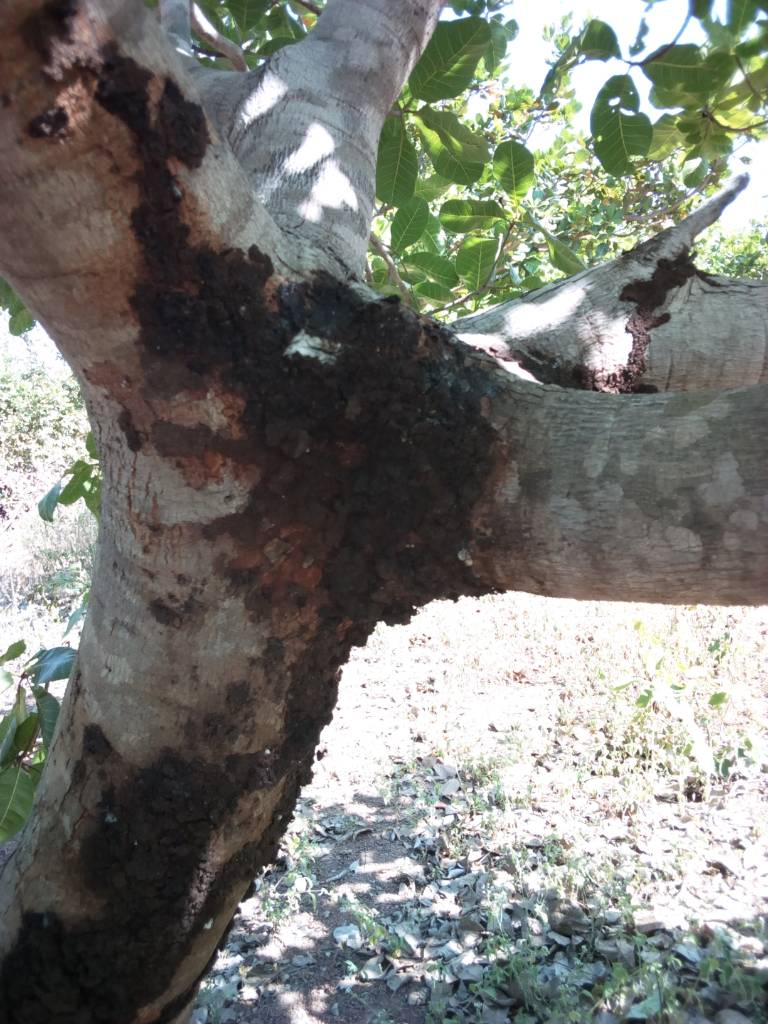Termites: (154, 280, 466, 627), (13, 771, 194, 1024)
